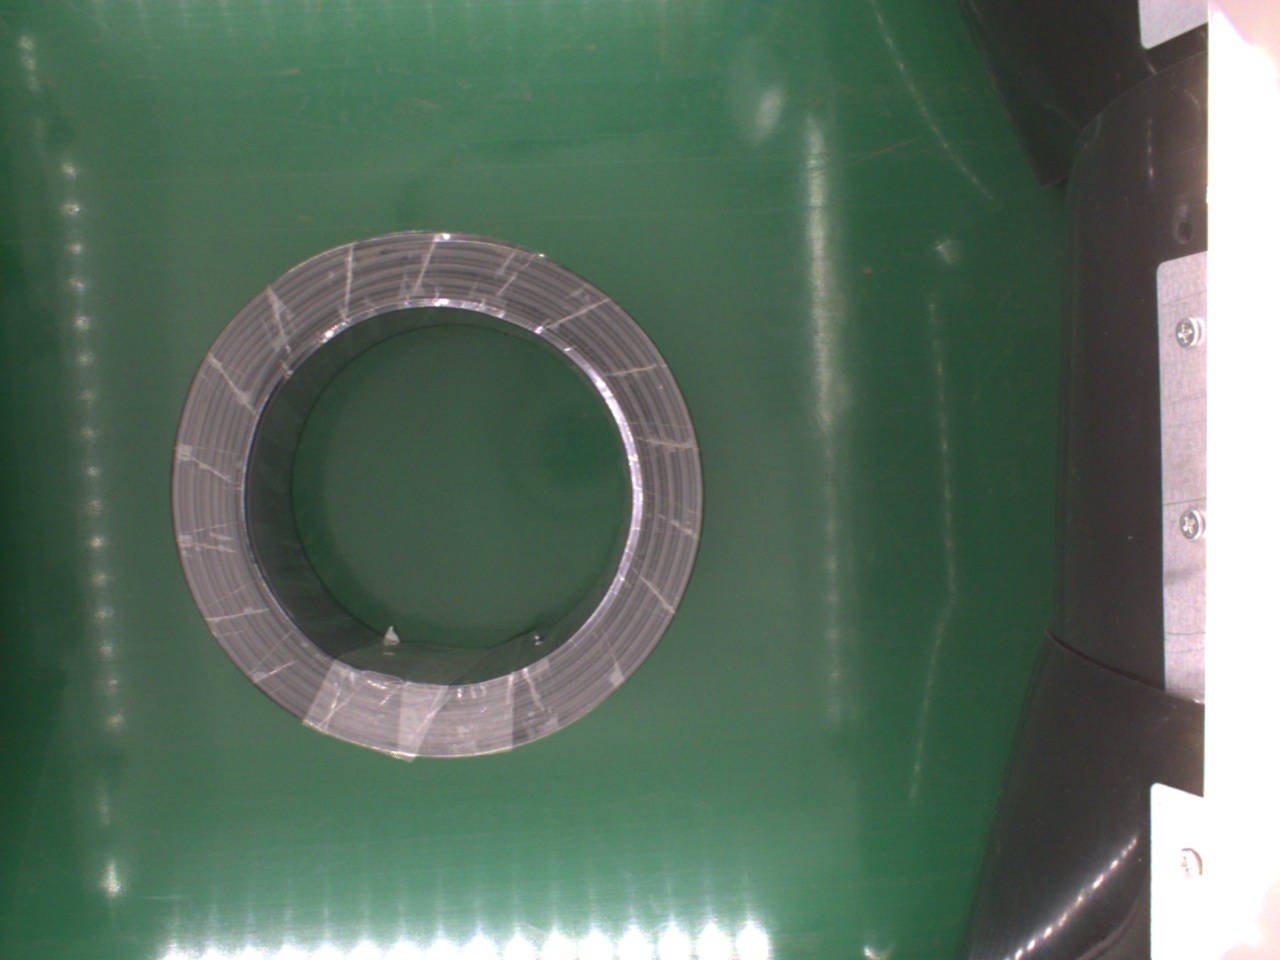black: (168, 231, 705, 758)
